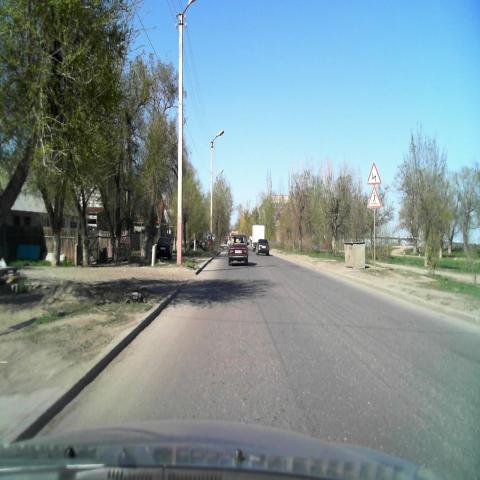1_12_2: (366, 162, 382, 185)
1_22: (366, 186, 382, 208)
